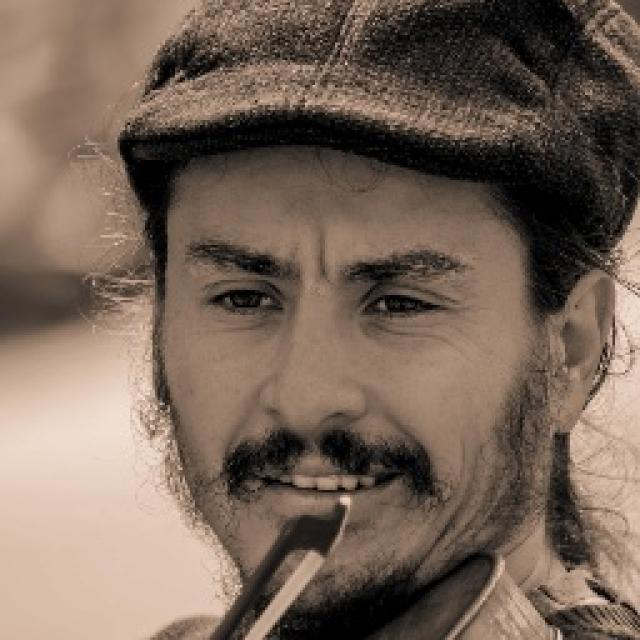no-glasses: (191, 250, 487, 352)
